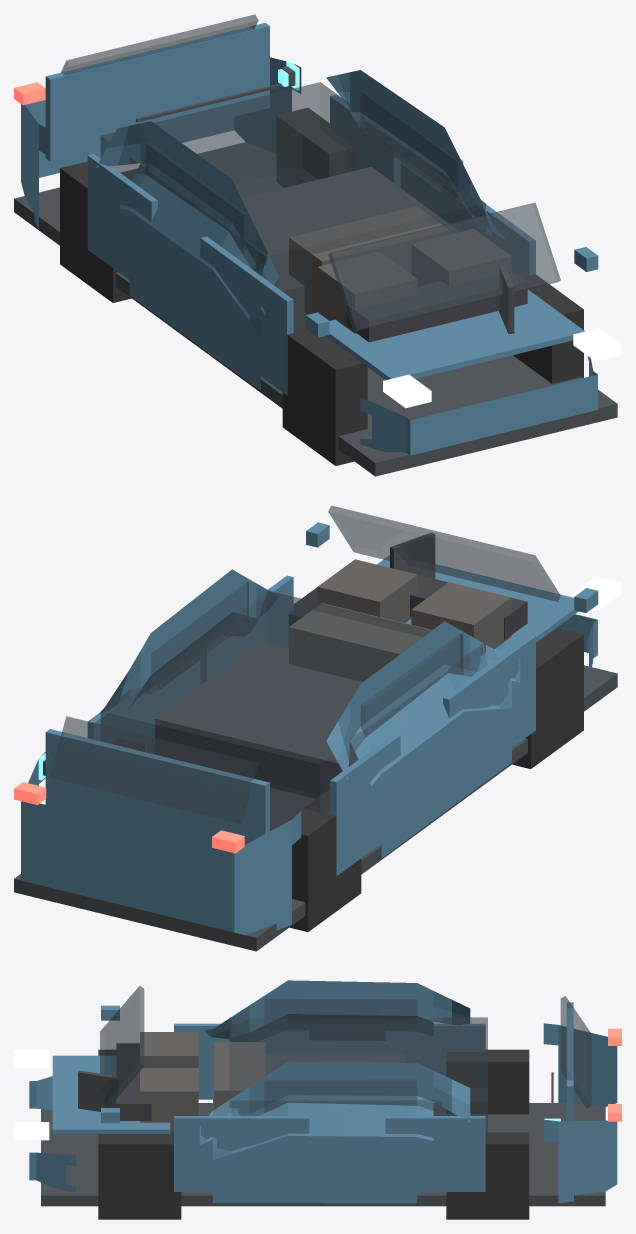
The model's file is sport_sedan_lod2.glb.
3 views of the same model, one above another, from view 1: azimuth 30°, elevation 25°; view 2: azimuth 150°, elevation 25°; view 3: azimuth 270°, elevation 25° (orthographic). The views are drawn at different scales.
Parts seen in each view (by area): view 1: body_mesh, cab_mesh, liftgate_mesh, windshield, trim_mesh, frunk_mesh, wheel_well_mesh, tire_fr, seat_rear, dash, door_fr_mesh, door_rr_mesh (+14 smaller); view 2: body_mesh, cab_mesh, wheel_well_mesh, liftgate_mesh, rear_glass, windshield, trim_mesh, seat_rear, tire_fr, tire_rr, door_rr_mesh, door_fr_mesh (+10 smaller); view 3: body_mesh, cab_mesh, trim_mesh, tire_fl, door_rl_mesh, door_fl_mesh, tire_rl, window_fixed_r, tire_rr, frunk_mesh, window_fixed_l, windshield (+12 smaller).
Boxes of the visible parts, x1=… form: body_mesh: x1=21, y1=57, x2=597, y2=455; cab_mesh: x1=100, y1=82, x2=485, y2=328; liftgate_mesh: x1=45, y1=23, x2=269, y2=161; windshield: x1=328, y1=202, x2=560, y2=331; trim_mesh: x1=14, y1=142, x2=617, y2=476; frunk_mesh: x1=326, y1=289, x2=584, y2=379; wheel_well_mesh: x1=241, y1=167, x2=459, y2=327; tire_fr: x1=282, y1=325, x2=367, y2=465; seat_rear: x1=289, y1=206, x2=449, y2=314; dash: x1=346, y1=271, x2=527, y2=342; door_fr_mesh: x1=200, y1=236, x2=293, y2=394; door_rr_mesh: x1=87, y1=154, x2=157, y2=279; body_mesh: x1=21, y1=569, x2=597, y2=935; cab_mesh: x1=100, y1=591, x2=485, y2=830; wheel_well_mesh: x1=155, y1=641, x2=362, y2=798; liftgate_mesh: x1=45, y1=729, x2=269, y2=845; rear_glass: x1=50, y1=716, x2=258, y2=824; windshield: x1=328, y1=505, x2=560, y2=601; trim_mesh: x1=14, y1=665, x2=617, y2=951; seat_rear: x1=289, y1=603, x2=432, y2=681; tire_fr: x1=512, y1=627, x2=583, y2=768; tire_rr: x1=278, y1=789, x2=361, y2=931; door_rr_mesh: x1=330, y1=734, x2=400, y2=876; door_fr_mesh: x1=443, y1=634, x2=535, y2=747; body_mesh: x1=29, y1=980, x2=617, y2=1203; cab_mesh: x1=229, y1=1017, x2=487, y2=1138; trim_mesh: x1=41, y1=1103, x2=605, y2=1206; tire_fl: x1=98, y1=1132, x2=181, y2=1219; door_rl_mesh: x1=385, y1=1116, x2=485, y2=1191; door_fl_mesh: x1=174, y1=1116, x2=309, y2=1191; tire_rl: x1=446, y1=1132, x2=529, y2=1219; window_fixed_r: x1=264, y1=999, x2=416, y2=1030; tire_rr: x1=446, y1=1049, x2=529, y2=1114; frunk_mesh: x1=52, y1=1055, x2=170, y2=1133; window_fixed_l: x1=264, y1=1079, x2=416, y2=1112; windshield: x1=100, y1=986, x2=144, y2=1109.
Size of the model in its own units: 2.15 by 1.72 by 5.17.
